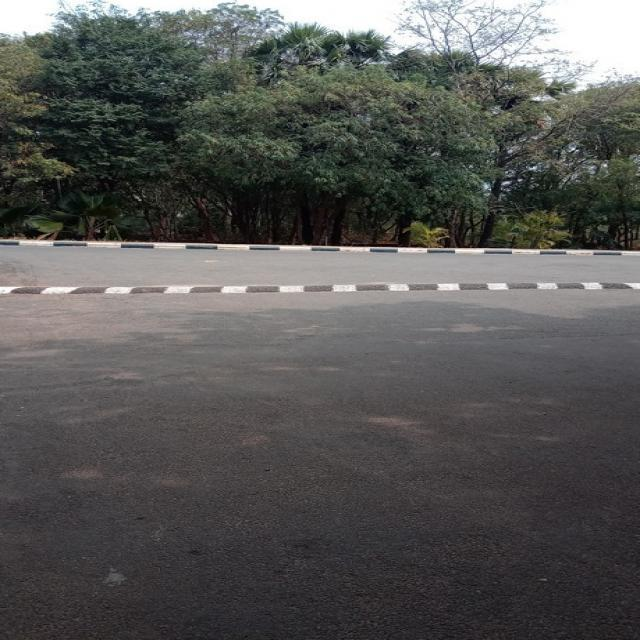speedbreaker: (0, 279, 640, 296)
